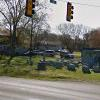Traffic light: (61, 2, 83, 28)
